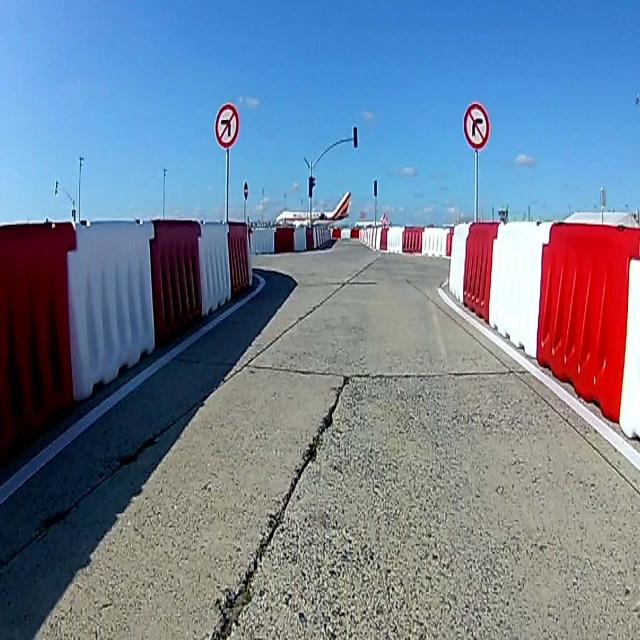sagadonulmez: (462, 100, 488, 148)
soladonulmez: (215, 101, 238, 150)
